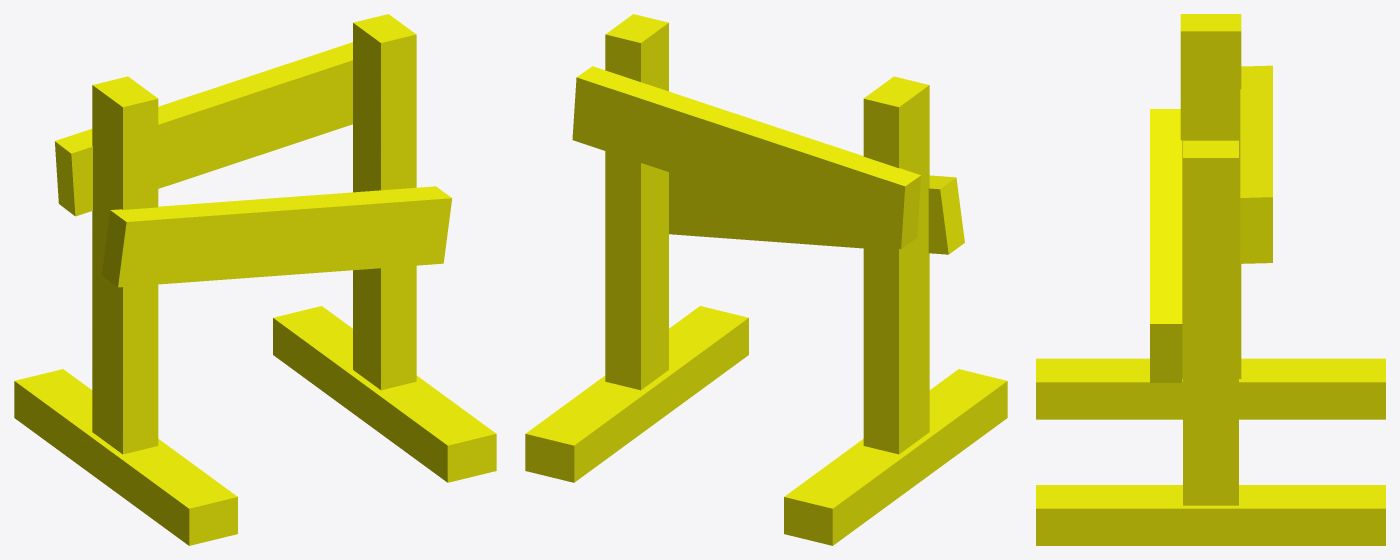
Rendered from parking_border_brackable.glb.
3 renders of one model, left to right at view 1: azimuth 30°, elevation 25°; view 2: azimuth 150°, elevation 25°; view 3: azimuth 270°, elevation 25°, orthographic.
Visible parts, largest first — view 1: parking_border_brackable; view 2: parking_border_brackable; view 3: parking_border_brackable.
Part boxes in pixels (box(x1,y1,x2,y2)): parking_border_brackable: box(14, 14, 496, 545); parking_border_brackable: box(525, 14, 1007, 545); parking_border_brackable: box(1036, 14, 1385, 545).
Size of the model in its own units: 0.9451 by 1.03 by 0.8514.
Materials: 1 (1 with a texture image).
